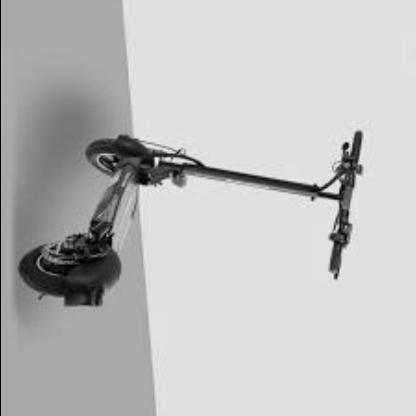bike: (21, 132, 364, 309)
